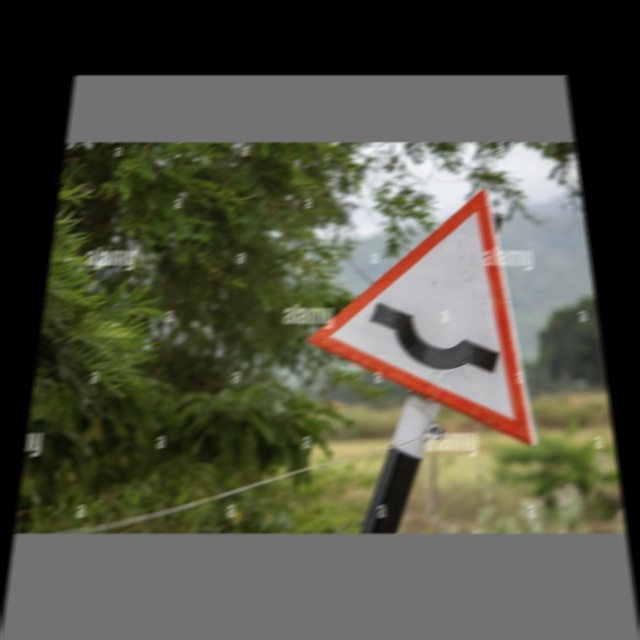Dangerous_Dip: (303, 185, 541, 444)
